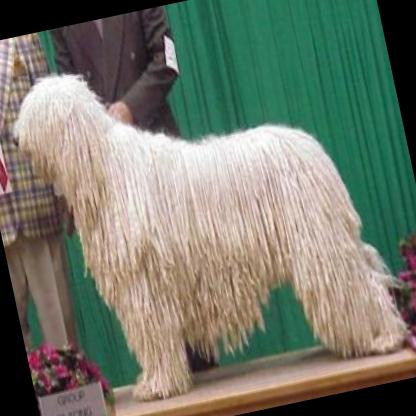komondor: (0, 1, 414, 416)
